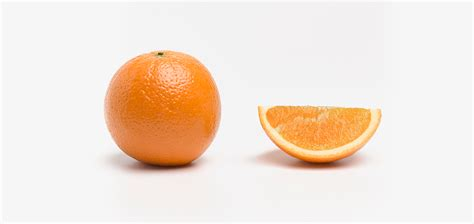orange: (101, 47, 224, 170)
